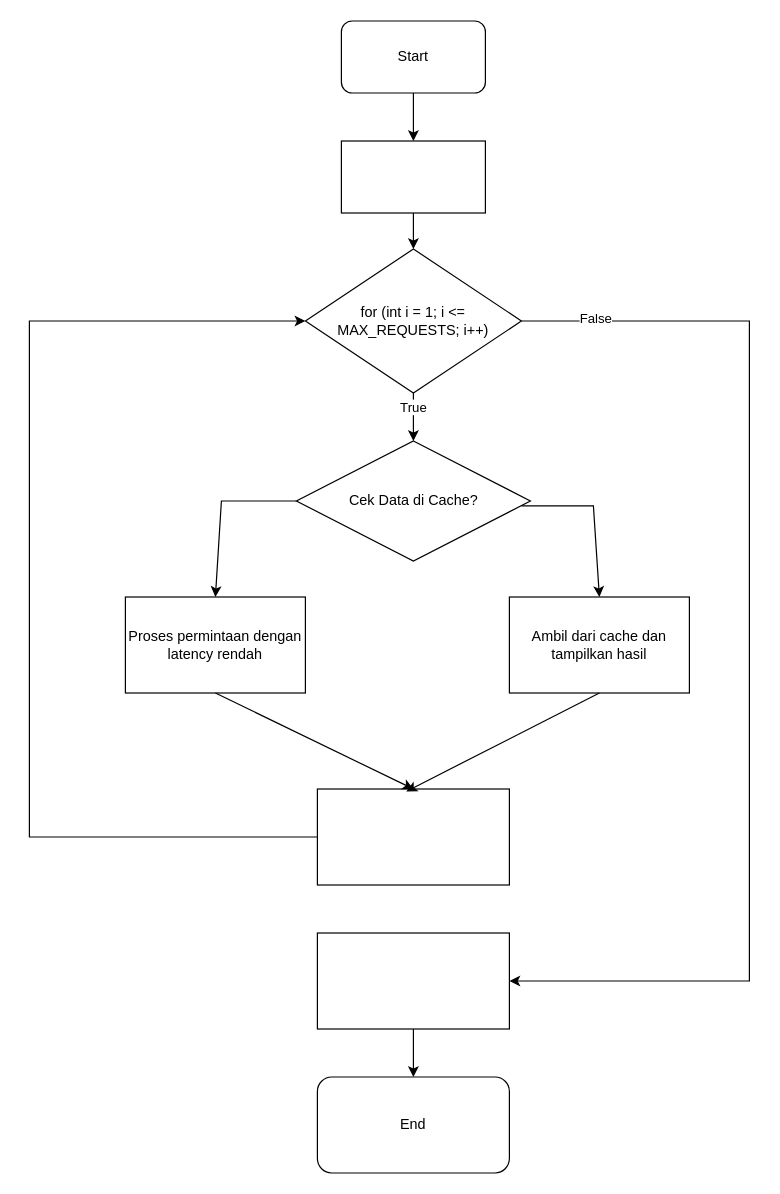
The diagram is 780 pixels wide and 1194 high, and some of its shapes have lost their labels. Here are the shapes that lost their labels. From the top down, the box of each, then its label:
(340, 140, 485, 213): Inisialisasi Thread Pool & Cache
(316, 788, 509, 885): Simpan Hasil ke Cache
(316, 932, 509, 1029): Tutup ExecutorService
